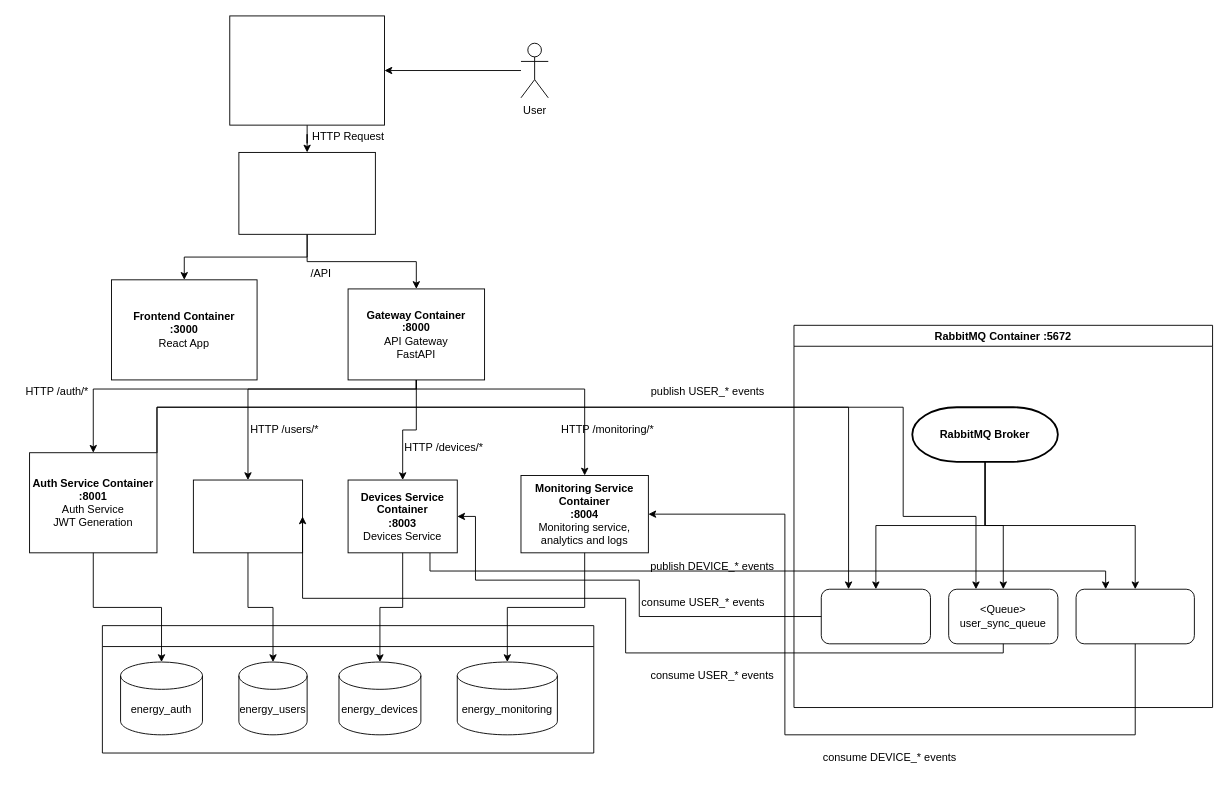
Some shapes in this 1229 by 787 pixel diagram are drawn without their labels. The centre of each missing label's shape, as x and y in pixels:
"<Queue> device_sync_queue" goes at (x=875, y=616).
"<Queue> monitoring_sync_queue" goes at (x=1134, y=616).
"Client browser (Web Browser)" goes at (x=306, y=70).
"PostgreSQL Container :5432" goes at (x=347, y=689).
"Traefik Container :80, :8080 Reverse Proxy" goes at (x=306, y=193).
"User Service Container :8002 Users Service" goes at (x=247, y=516).
